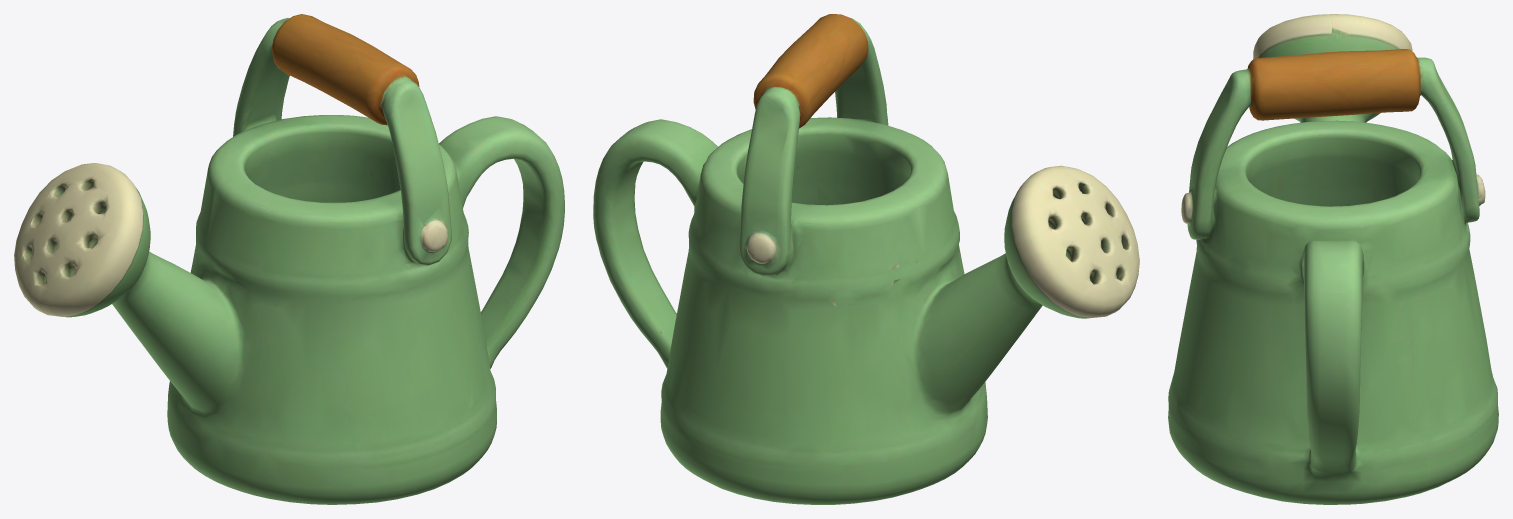
The picture shows the model from 3 angles, left to right: view 1: azimuth 30°, elevation 25°; view 2: azimuth 150°, elevation 25°; view 3: azimuth 270°, elevation 25°; orthographic projection.
Parts seen in each view (by area): view 1: watering-can; view 2: watering-can; view 3: watering-can.
Boxes of the visible parts, left/top/right/bottom form: watering-can: left=14, top=14, right=564, bottom=504; watering-can: left=593, top=14, right=1139, bottom=504; watering-can: left=1168, top=14, right=1498, bottom=504.
Size of the model in its own units: 0.4811 by 0.3499 by 0.2648.
Materials: 1 (1 with a texture image).
